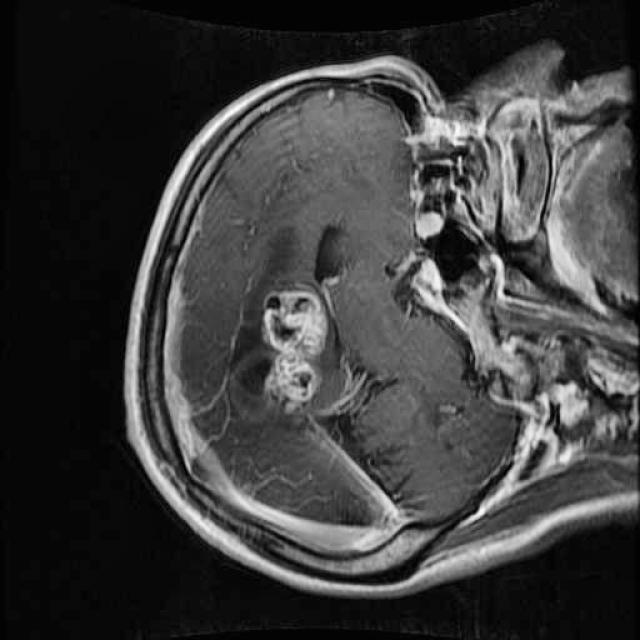Non-Tumor: (254, 282, 332, 422)
